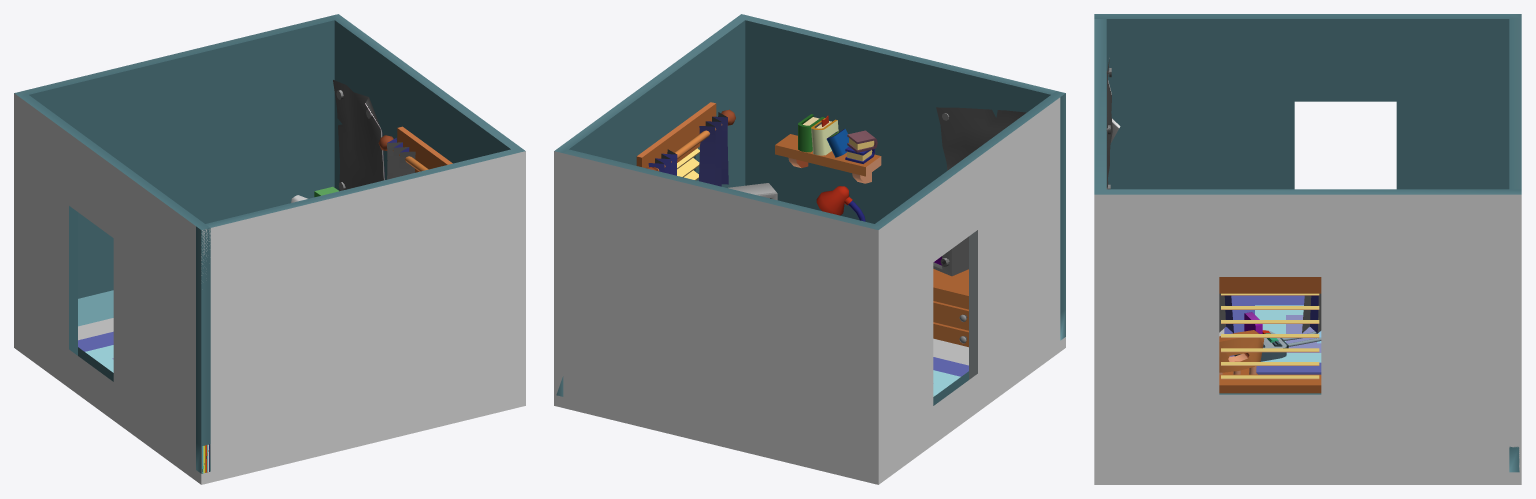
Rendered from ChildRoom.fbx.
3 renders of one model, left to right at view 1: azimuth 30°, elevation 25°; view 2: azimuth 150°, elevation 25°; view 3: azimuth 270°, elevation 25°, orthographic. The views are drawn at different scales.
Visible parts, largest first — view 1: Wall.014, Wall.015, Carpet.001; view 2: Wall.015, Wall.014, Closet, DeskLamp, Television, Carpet.001, ChildRoom; view 3: Wall.014, Wall.015, Carpet.001, Chair.001, Atari.
Part boxes in pixels (left/top/right/bottom): Wall.014: left=196, top=14, right=525, bottom=484; Wall.015: left=14, top=16, right=334, bottom=484; Carpet.001: left=78, top=331, right=113, bottom=372; Wall.015: left=554, top=91, right=1065, bottom=484; Wall.014: left=554, top=14, right=1065, bottom=396; Closet: left=933, top=269, right=968, bottom=347; DeskLamp: left=816, top=186, right=865, bottom=221; Television: left=933, top=236, right=968, bottom=276; Carpet.001: left=933, top=357, right=968, bottom=395; ChildRoom: left=933, top=338, right=968, bottom=365; Wall.014: left=1094, top=19, right=1521, bottom=484; Wall.015: left=1094, top=14, right=1521, bottom=472; Carpet.001: left=1224, top=295, right=1321, bottom=374; Chair.001: left=1219, top=330, right=1264, bottom=374; Atari: left=1234, top=312, right=1321, bottom=361.
Size of the model in its own units: 5.02 by 3.76 by 5.02.
